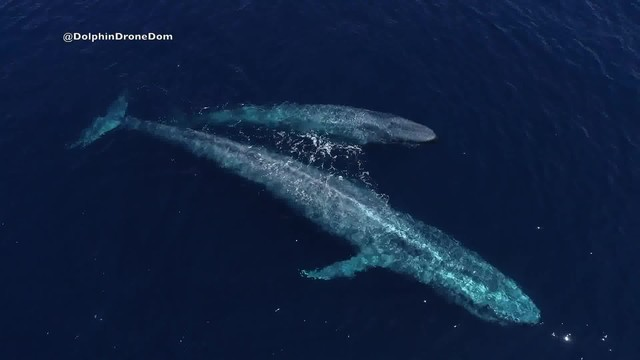whale: (64, 91, 544, 333), (122, 85, 442, 153)
